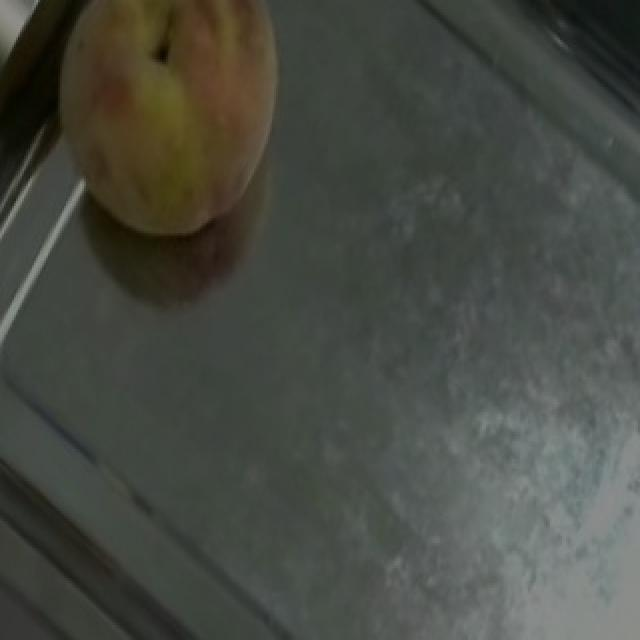Fruit: (10, 0, 332, 285)
